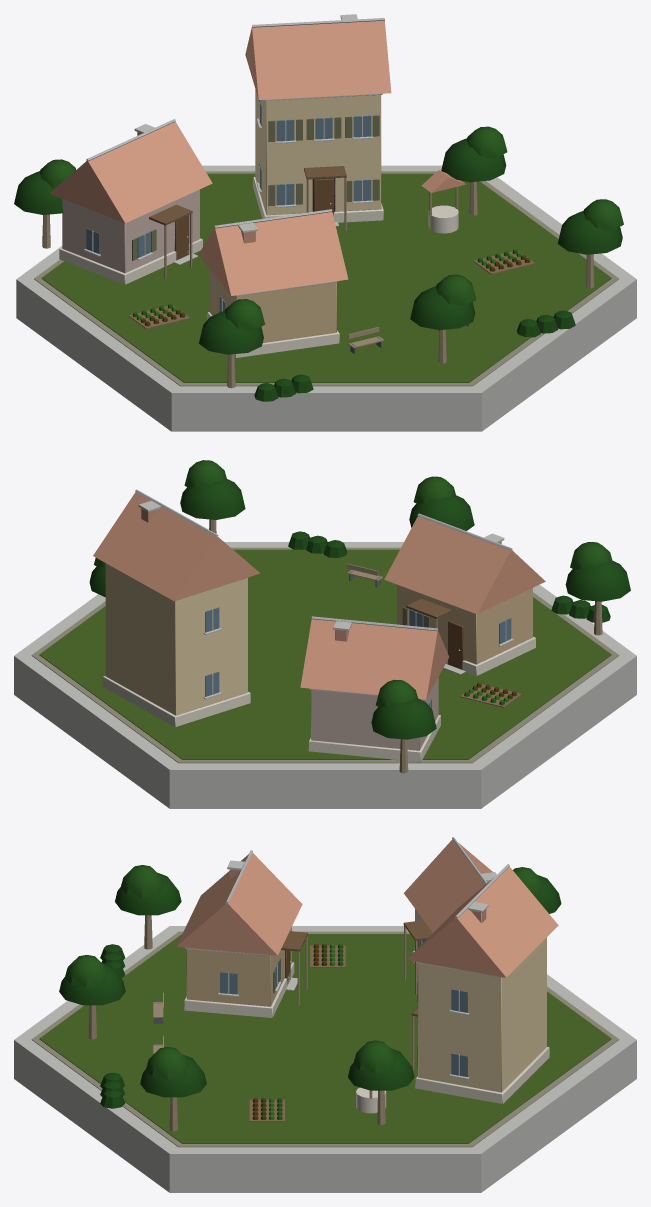
File: cottage.glb
The picture shows the model from 3 angles, top to bottom: view 1: azimuth 30°, elevation 25°; view 2: azimuth 150°, elevation 25°; view 3: azimuth 270°, elevation 25°; orthographic projection.
Visible parts, largest first — view 1: turf, wall_concrete, roof_tile, plaster, leaf, wood, stone, pavers, glass, metal, earth; view 2: turf, wall_concrete, roof_tile, plaster, leaf, stone, pavers, wood, glass, metal; view 3: turf, wall_concrete, roof_tile, plaster, leaf, pavers, stone, wood, glass, earth, metal.
Part boxes in pixels (x1=…): turf: x1=41, y1=173, x2=611, y2=382; wall_concrete: x1=16, y1=14, x2=636, y2=431; roof_tile: x1=50, y1=20, x2=465, y2=295; plaster: x1=62, y1=89, x2=381, y2=342; leaf: x1=14, y1=126, x2=623, y2=401; wood: x1=42, y1=115, x2=594, y2=388; stone: x1=59, y1=177, x2=458, y2=357; pavers: x1=34, y1=171, x2=619, y2=386; glass: x1=86, y1=100, x2=371, y2=312; metal: x1=86, y1=18, x2=384, y2=228; earth: x1=128, y1=251, x2=534, y2=329; turf: x1=39, y1=549, x2=611, y2=759; wall_concrete: x1=14, y1=500, x2=636, y2=808; roof_tile: x1=93, y1=492, x2=545, y2=699; plaster: x1=105, y1=563, x2=532, y2=750; leaf: x1=89, y1=460, x2=630, y2=739; stone: x1=102, y1=636, x2=535, y2=762; pavers: x1=31, y1=547, x2=619, y2=763; wood: x1=209, y1=519, x2=602, y2=773; glass: x1=205, y1=607, x2=511, y2=708; metal: x1=135, y1=489, x2=512, y2=631; turf: x1=39, y1=934, x2=611, y2=1143; wall_concrete: x1=14, y1=860, x2=636, y2=1192; roof_tile: x1=176, y1=839, x2=558, y2=977; plaster: x1=186, y1=909, x2=546, y2=1092; leaf: x1=59, y1=865, x2=561, y2=1119; pavers: x1=31, y1=931, x2=619, y2=1147; stone: x1=184, y1=950, x2=549, y2=1113; wood: x1=88, y1=915, x2=432, y2=1131; glass: x1=220, y1=940, x2=467, y2=1077; earth: x1=249, y1=945, x2=345, y2=1121; metal: x1=225, y1=837, x2=509, y2=918.
Bounding box in the file's own units: 21.3 × 9.71 × 24.6.
